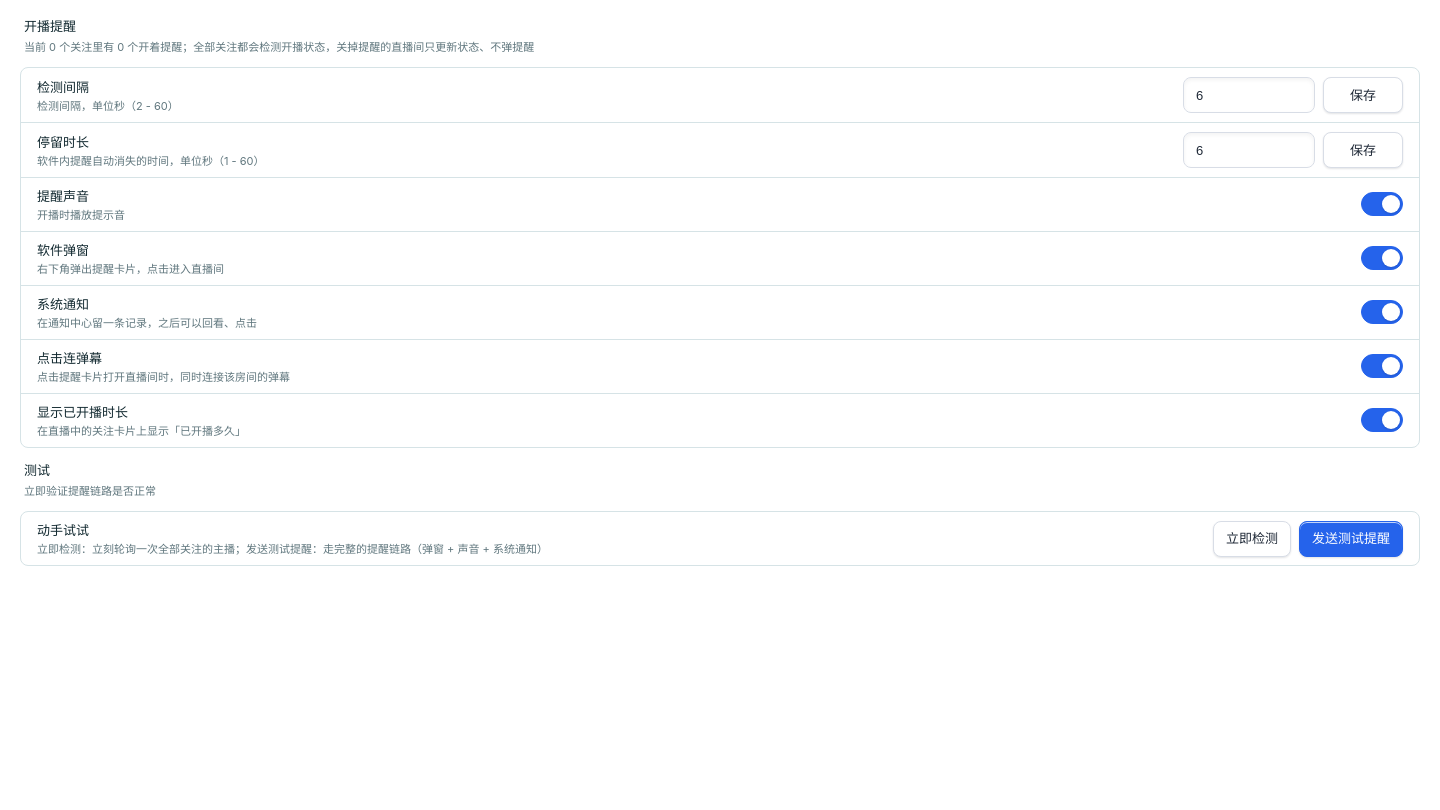
保存失败保留输入，允许重试且不显示成功提示
This screenshot has width=1440, height=810.
Replace the text in the number field labelled "停留时长" with "18". click: (1249, 150)
box: left=1183, top=132, right=1315, bottom=168
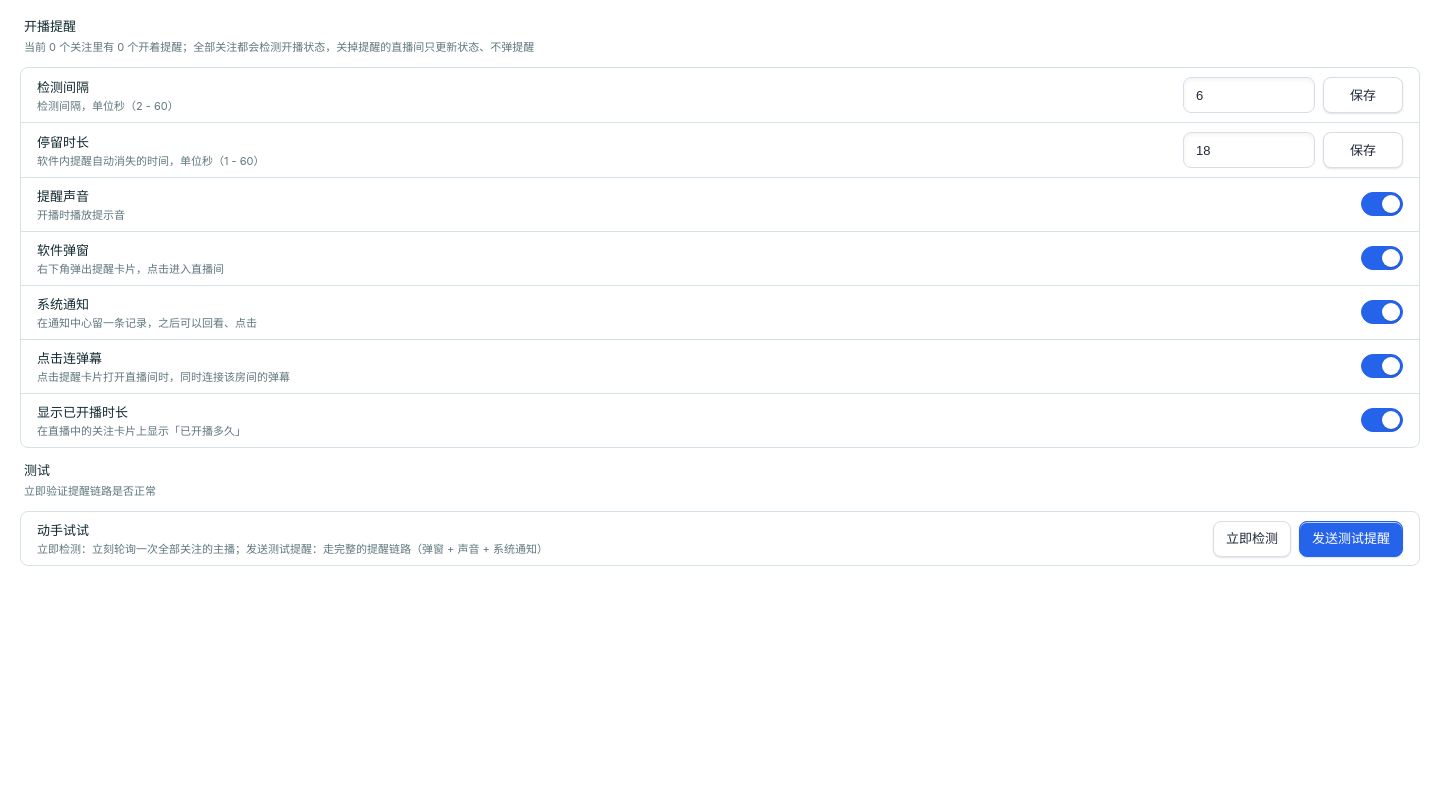
Click the button with aria-label "保存停留时长". click: (1363, 150)
box: left=1323, top=132, right=1403, bottom=168
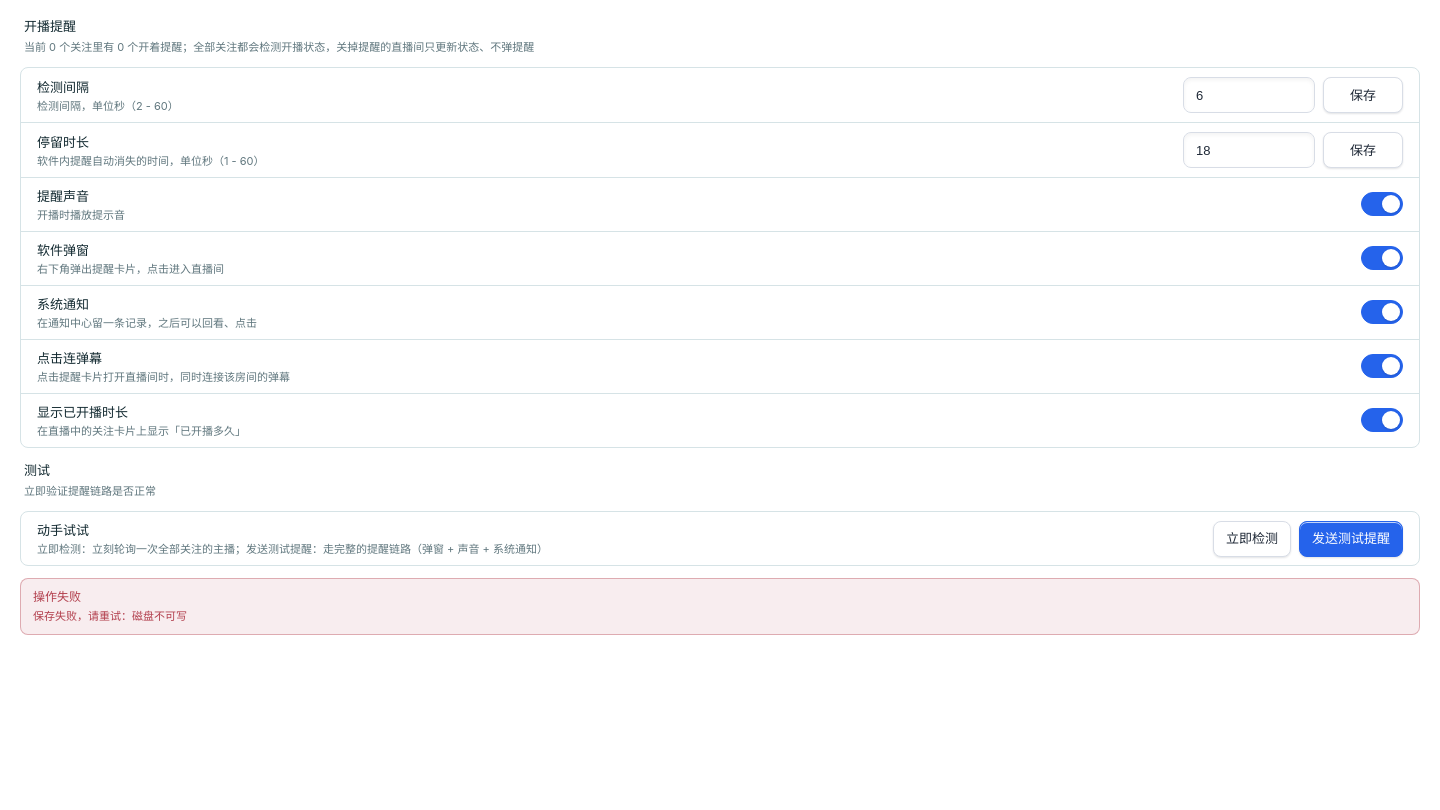
Now the message shows "磁盘不可写", box left=33, top=609, right=187, bottom=623
Click the button with aria-label "保存停留时长". click: (1363, 150)
box: left=1323, top=132, right=1403, bottom=168
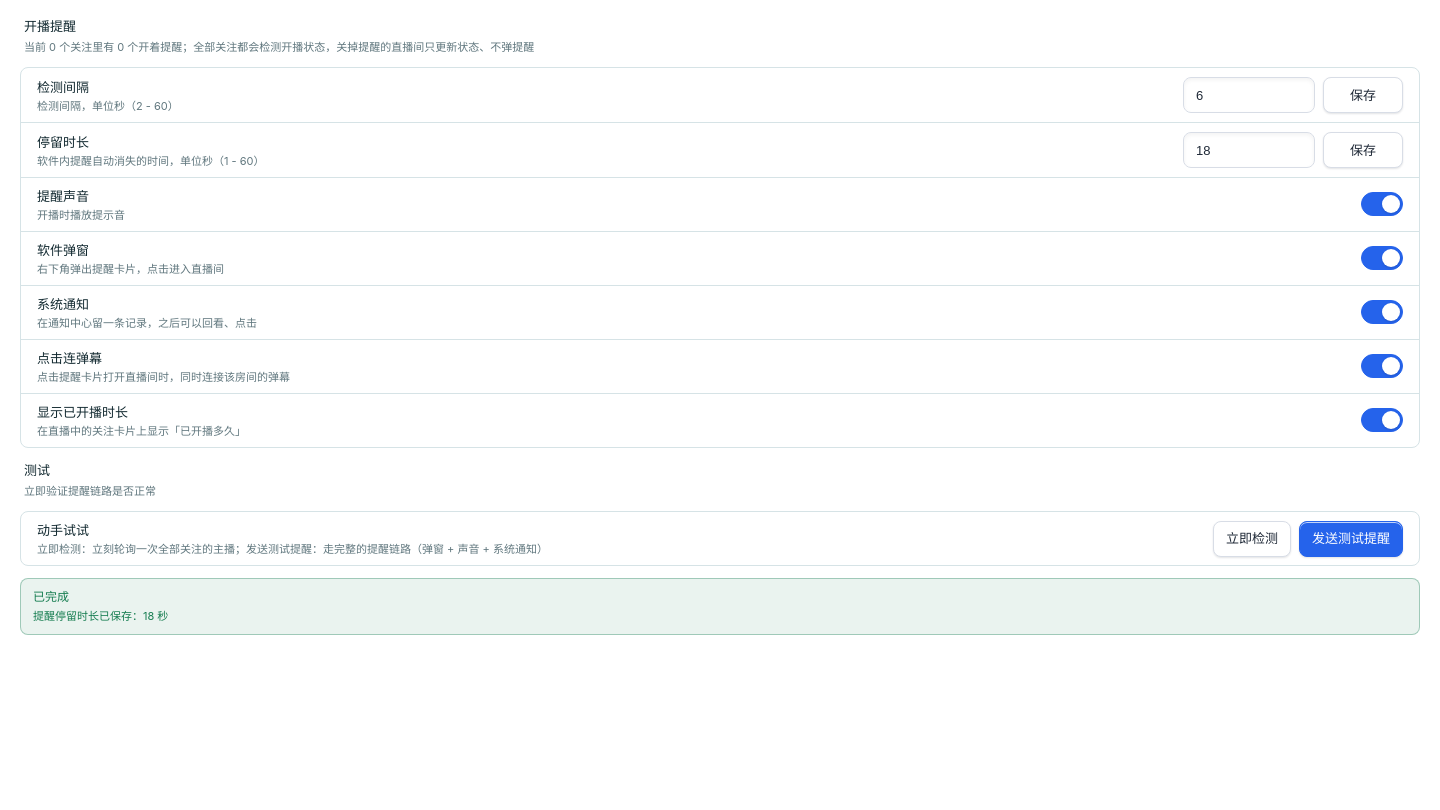
Now the message shows "提醒停留时长已保存：18 秒", box left=33, top=609, right=168, bottom=623
